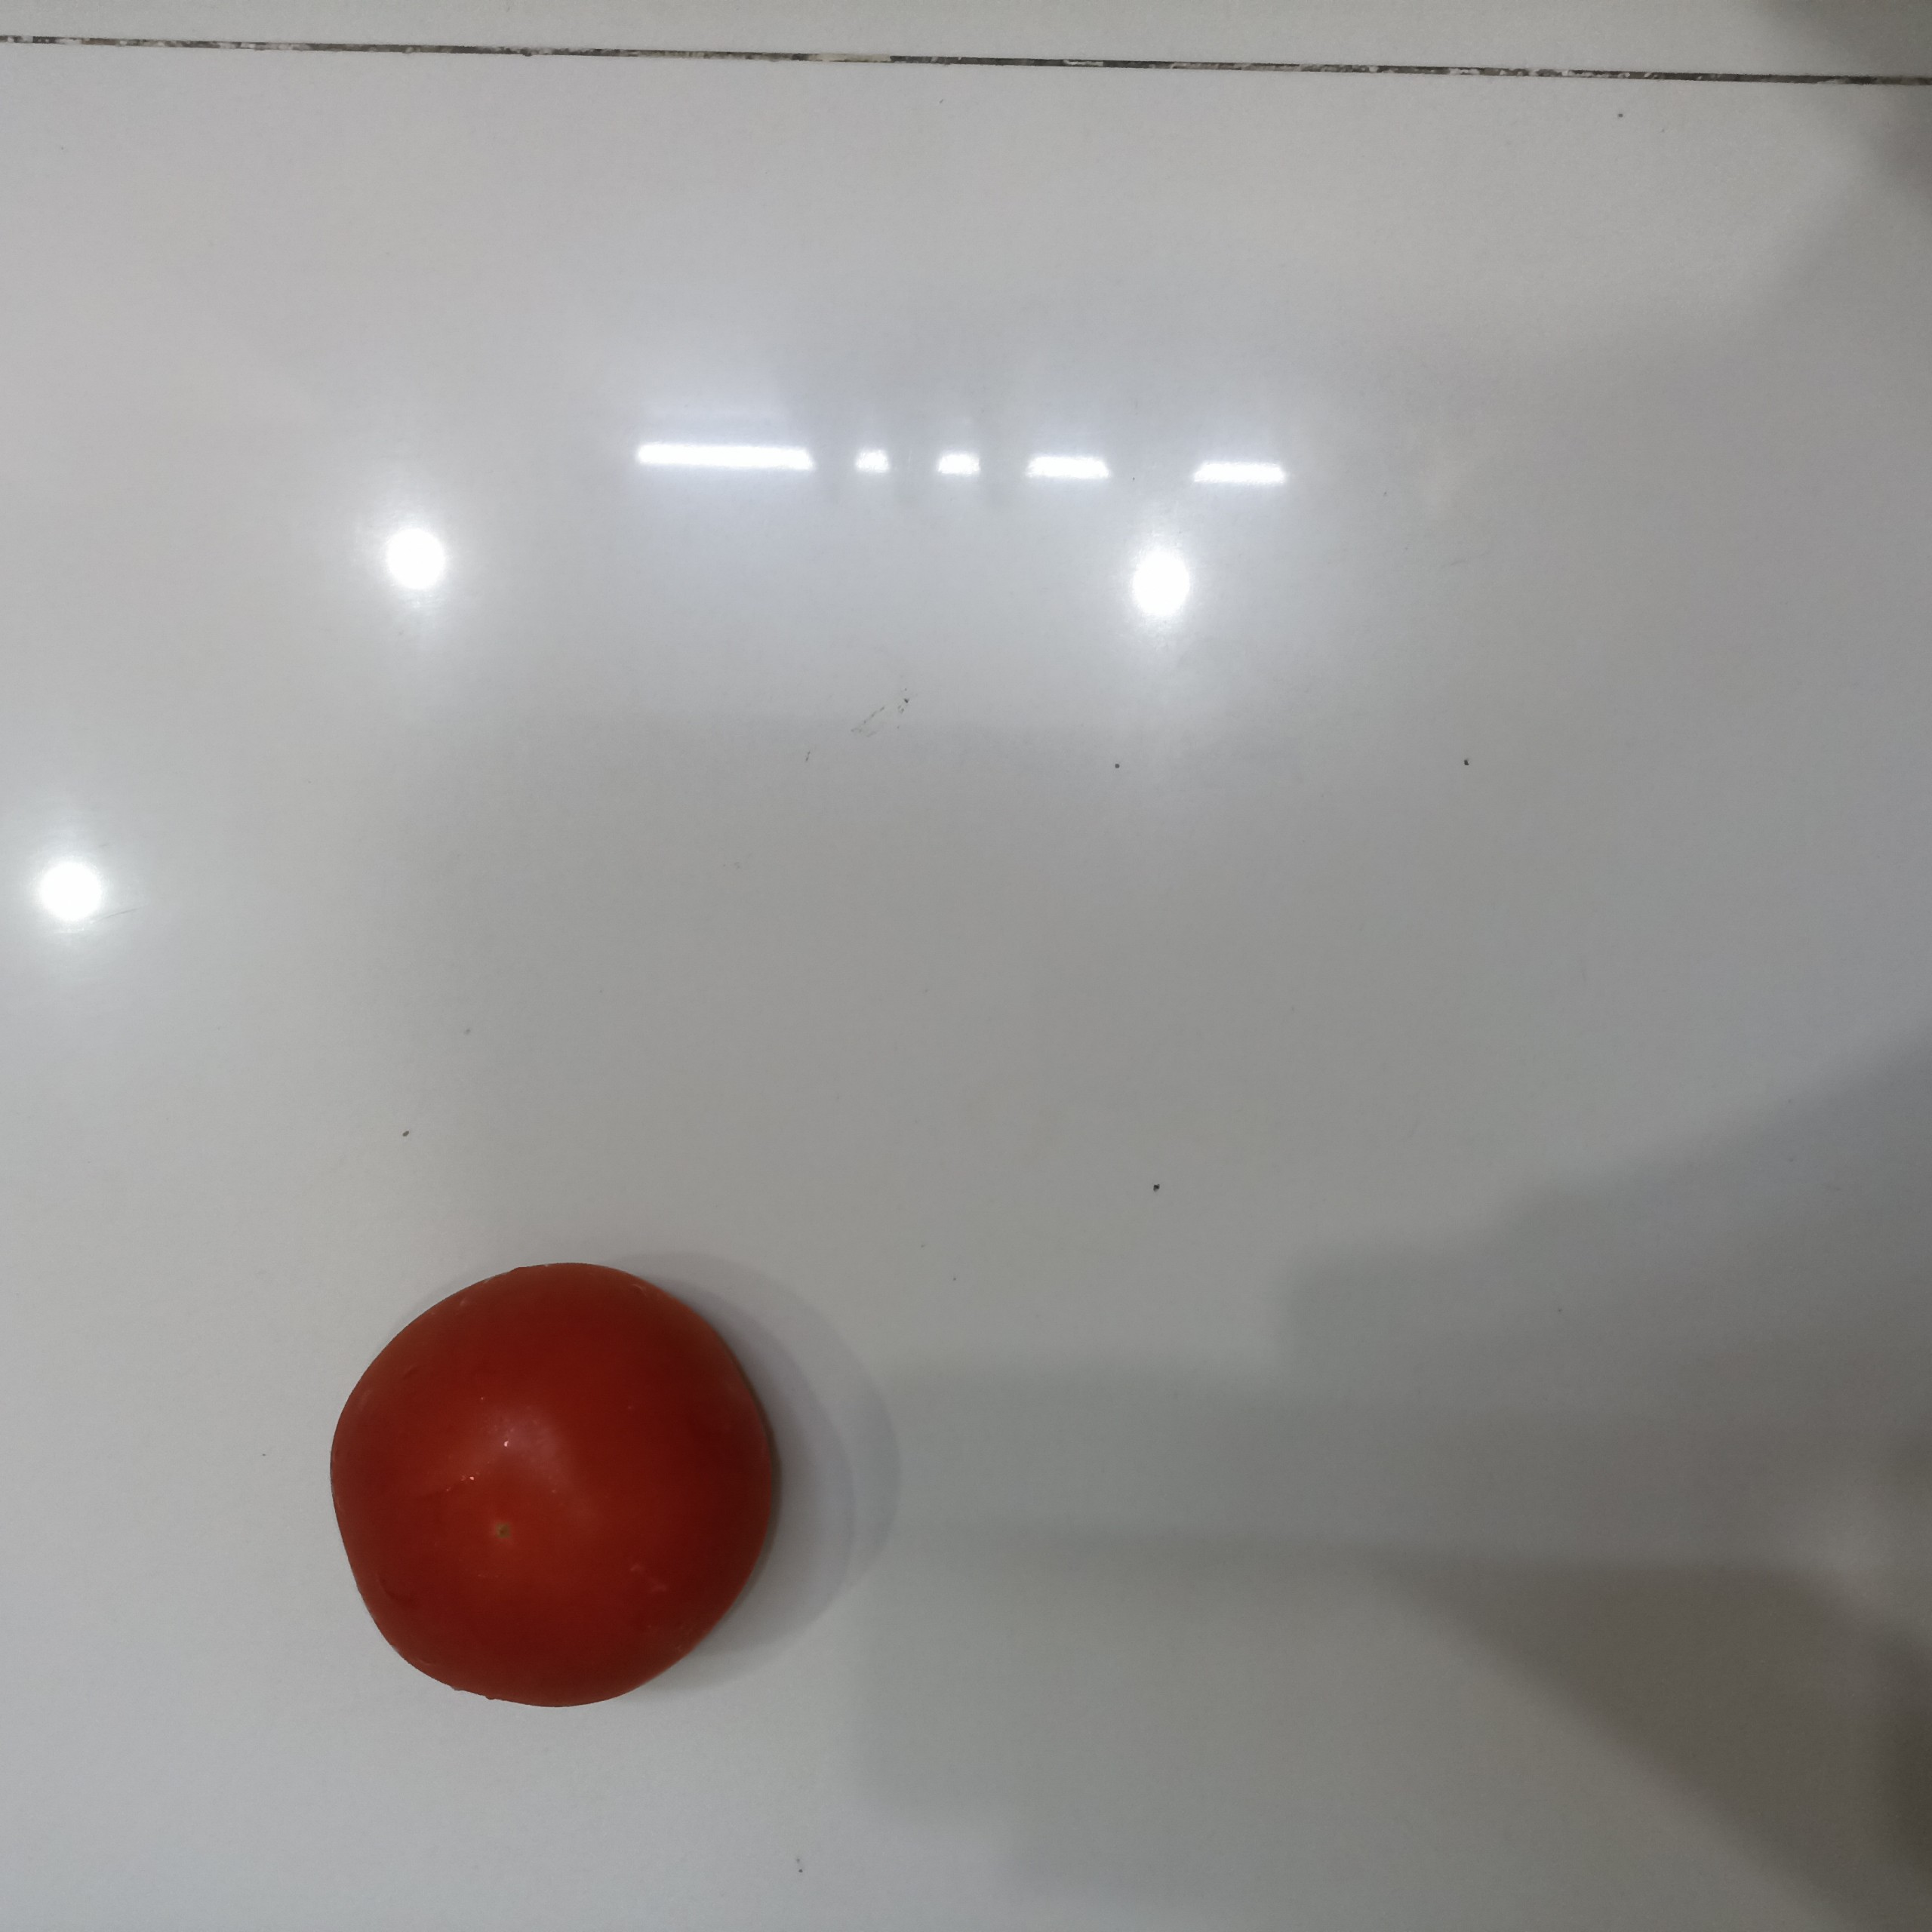Ca chua: (320, 1258, 780, 1706)
